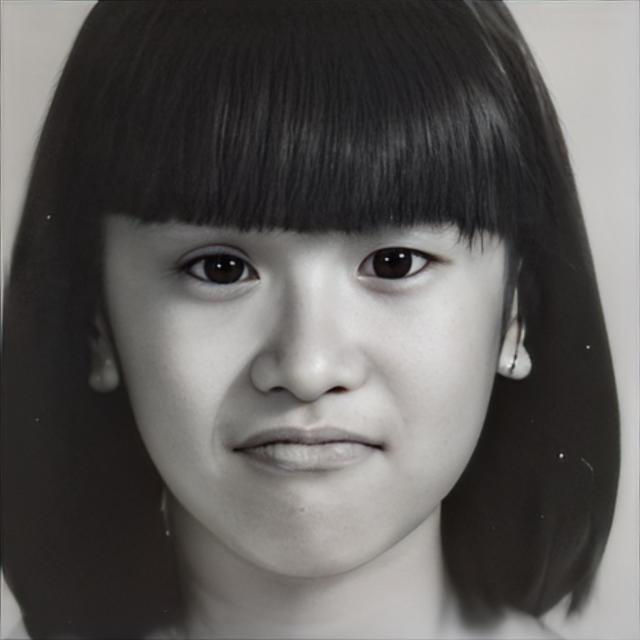disgust: (113, 126, 505, 579)
